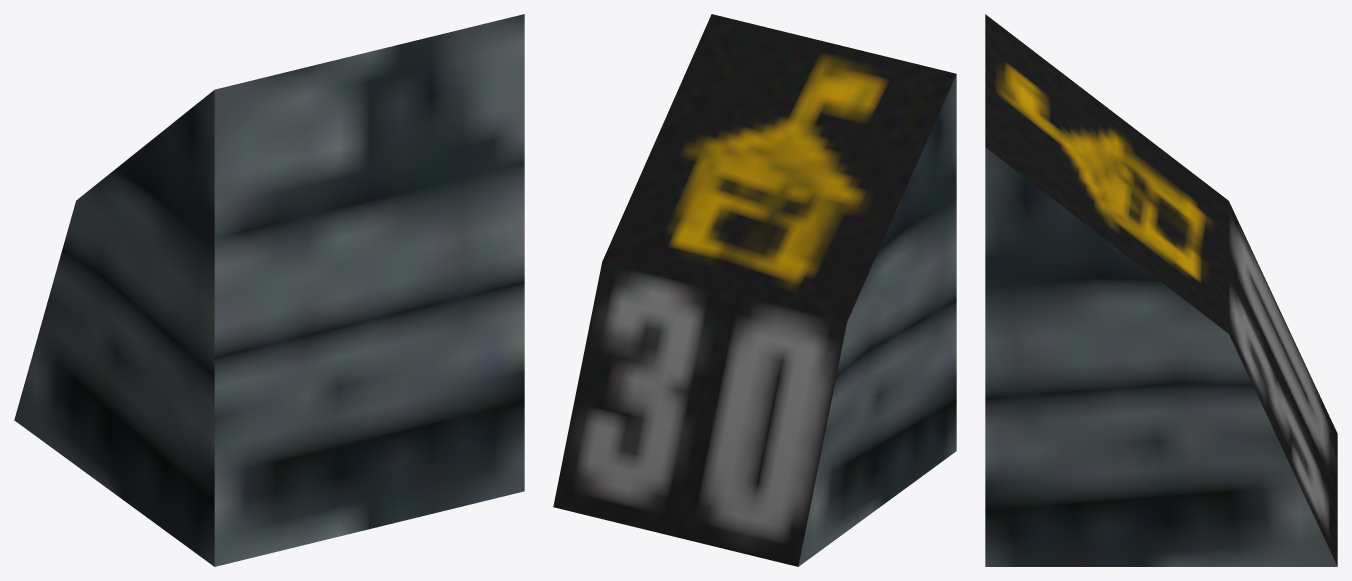
Rendered from console.glb.
The picture shows the model from 3 angles, left to right: view 1: azimuth 30°, elevation 25°; view 2: azimuth 150°, elevation 25°; view 3: azimuth 270°, elevation 25°; orthographic projection. The views are drawn at different scales.
Parts seen in each view (by area): view 1: root; view 2: root; view 3: root.
Part boxes in pixels (x1,y1,x2,y2): root: [14, 14, 524, 566]; root: [553, 14, 956, 566]; root: [985, 14, 1337, 566].
Size of the model in its own units: 1 by 1.47 by 1.12.
1 material, 1 textured.
